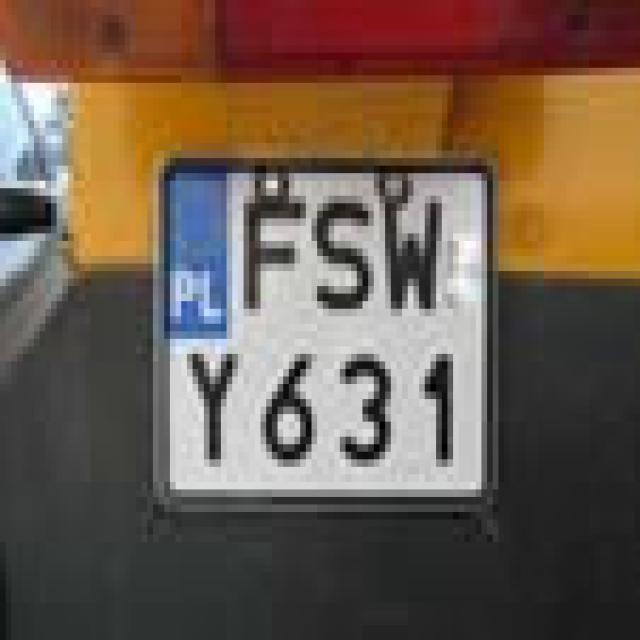pl_license_plate: (153, 158, 476, 490)
